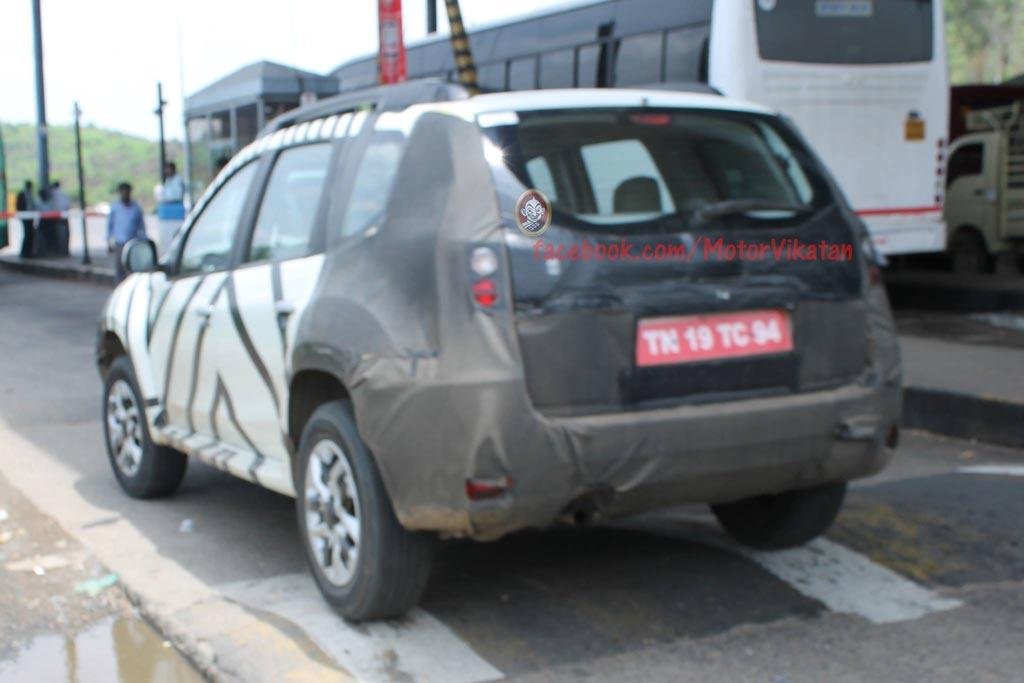License-Plate: (632, 315, 795, 361)
